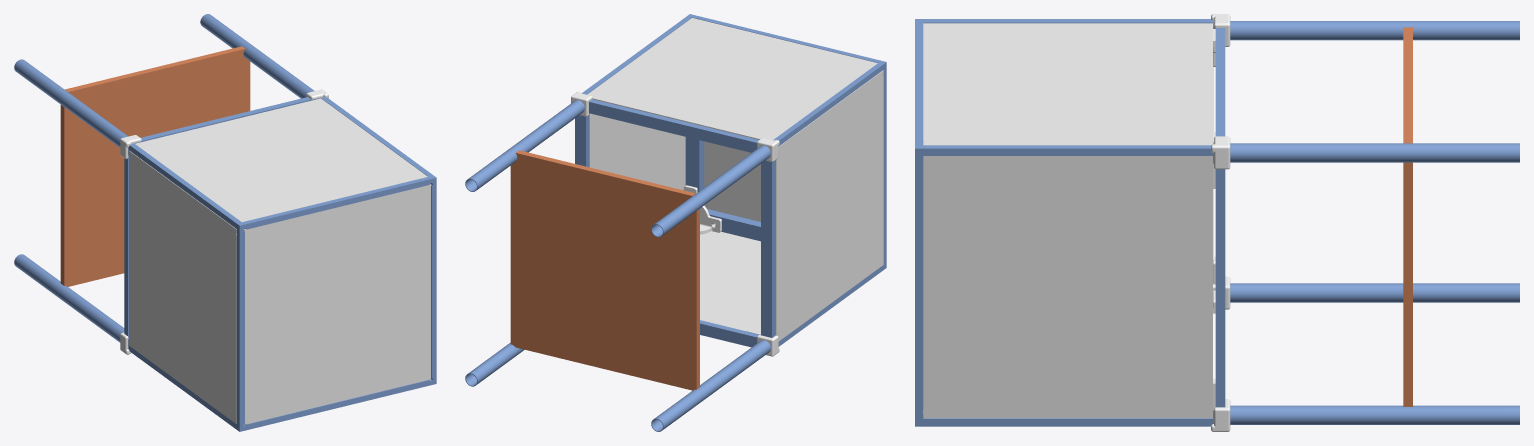
File: Serre.gltf
3 renders of one model, left to right at view 1: azimuth 30°, elevation 25°; view 2: azimuth 150°, elevation 25°; view 3: azimuth 270°, elevation 25°, orthographic. The views are drawn at different scales.
Visible parts, largest first — view 1: Plexy (×3), Planche Ã©tagÃ¨re, 585x50x35mm (×4), pied cloche (×3), 588x35x35mm (×3), 600x35x20mm (×2); view 2: Plexy (×5), Planche Ã©tagÃ¨re, pied cloche (×4), 600x35x20mm (×4), 585x50x35mm (×4), 588x35x35mm (×3), Support angle haut; view 3: Plexy (×2), pied cloche (×4), 588x35x35mm (×3), 600x35x20mm (×2), 585x50x35mm (×2), Planche Ã©tagÃ¨re, Support angle Ã©tagÃ¨re.
Part boxes in pixels (<box>): Plexy (×3): <box>129,98,430,424</box>; Planche Ã©tagÃ¨re: <box>60,46,250,286</box>; 585x50x35mm (×4): <box>233,173,436,431</box>; pied cloche (×3): <box>14,14,314,342</box>; 588x35x35mm (×3): <box>128,97,429,426</box>; 600x35x20mm (×2): <box>124,97,313,338</box>; Plexy (×5): <box>587,18,883,341</box>; Planche Ã©tagÃ¨re: <box>510,150,699,390</box>; pied cloche (×4): <box>465,100,770,431</box>; 600x35x20mm (×4): <box>575,99,775,347</box>; 585x50x35mm (×4): <box>684,14,886,272</box>; 588x35x35mm (×3): <box>582,18,880,346</box>; Support angle haut: <box>683,185,721,234</box>; Plexy (×2): <box>923,23,1212,418</box>; pied cloche (×4): <box>1230,21,1519,424</box>; 588x35x35mm (×3): <box>932,19,1215,426</box>; 600x35x20mm (×2): <box>1215,28,1225,407</box>; 585x50x35mm (×2): <box>915,29,931,426</box>; Planche Ã©tagÃ¨re: <box>1403,27,1412,406</box>; Support angle Ã©tagÃ¨re: <box>1211,136,1230,169</box>.
Bounding box in the file's own units: 0.654 × 0.654 × 1.25.
